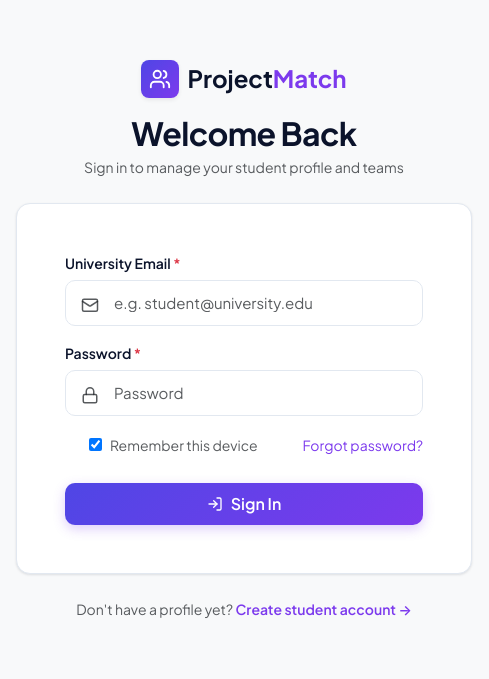
Test case: LoginPage › displays an error alert when login() throws (invalid credentials)
Type "student@university.edu" into the field labelled "University Email *". click: (244, 303)
box: [65,280,423,326]
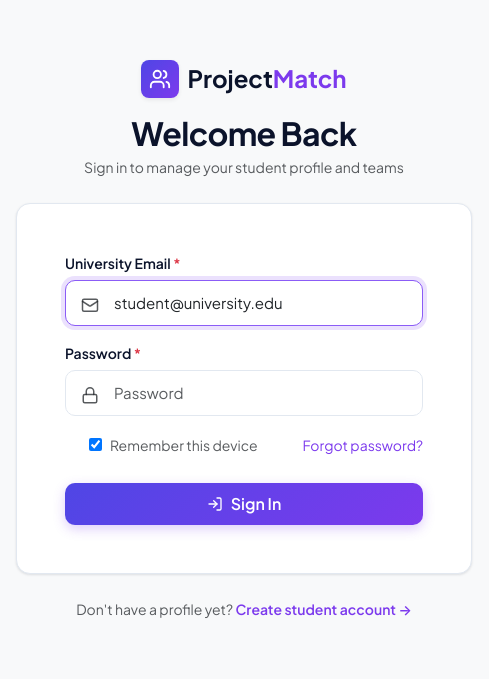
Type "wrongpass" into the password field with placeholder "Password". click: (244, 393)
box: [65,370,423,416]
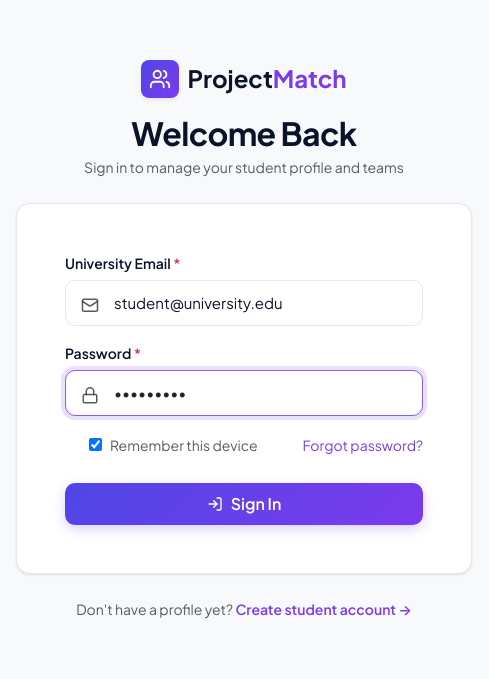
Click the button "Sign In". click: (244, 504)
box: [65,483,423,525]
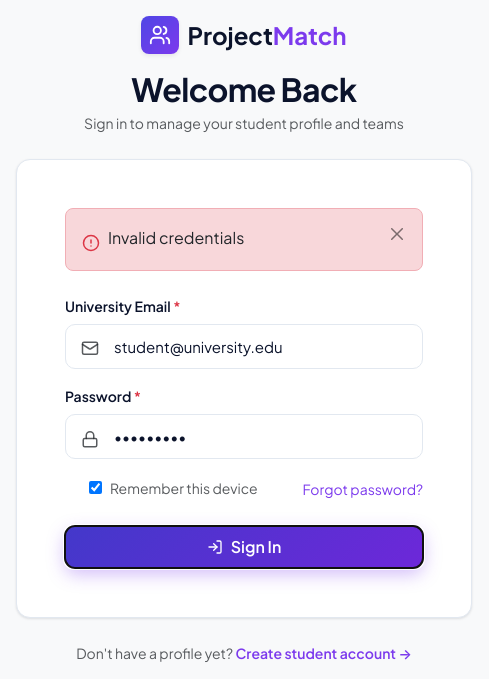
expect the message reads "Invalid credentials": met, box [108,227,244,248]
